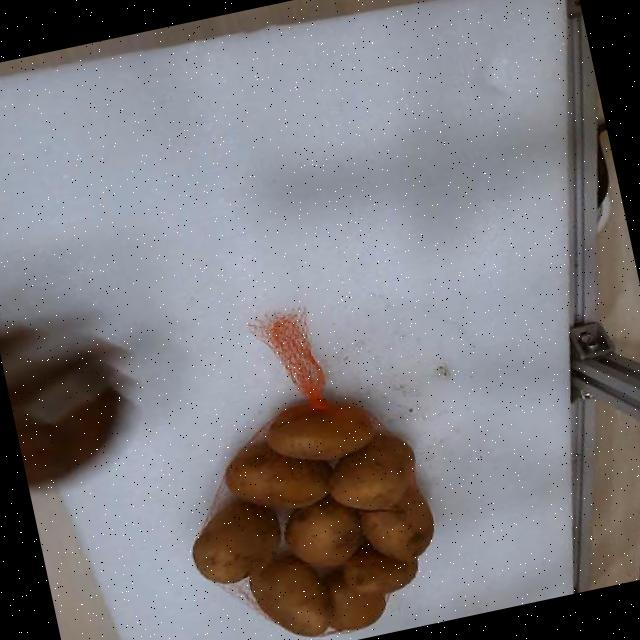potato: (192, 499, 280, 582), (249, 555, 332, 636), (224, 444, 330, 507), (329, 435, 415, 508), (266, 403, 374, 459), (359, 483, 433, 560), (284, 495, 362, 565), (342, 544, 416, 593), (325, 569, 384, 630)
